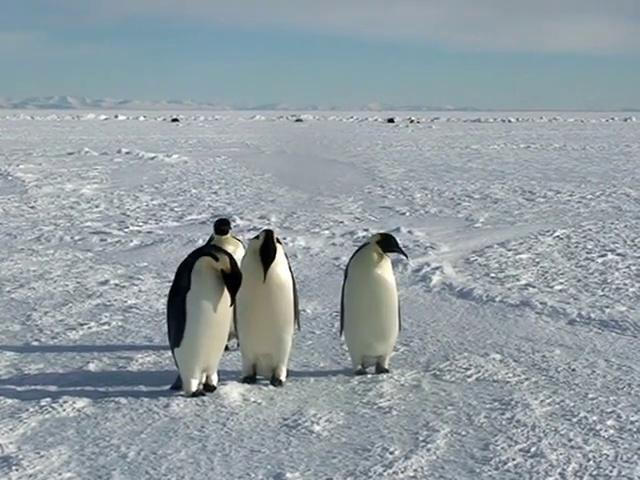animal: (341, 234, 409, 375)
